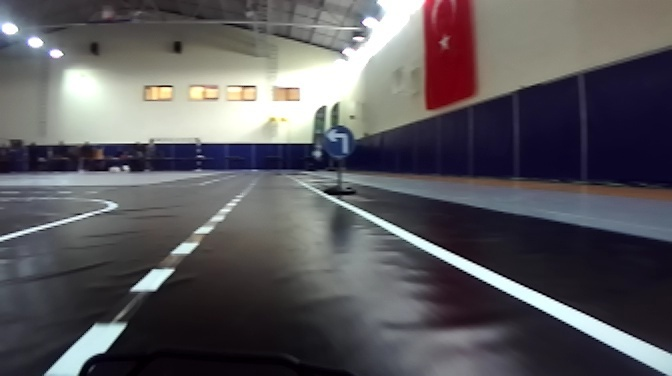sola_donus: (318, 123, 356, 160)
